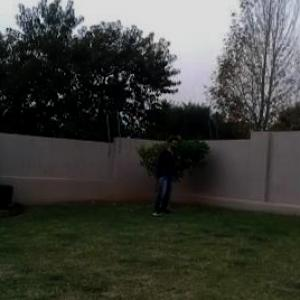follow: (152, 128, 180, 222)
